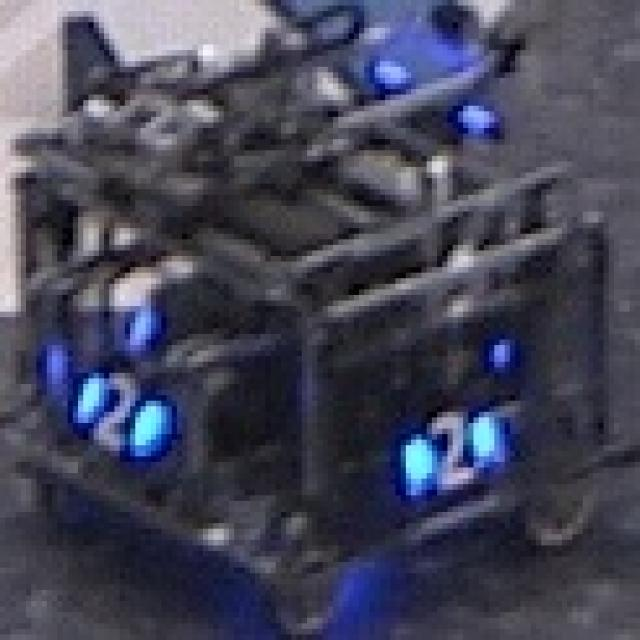B2: (395, 400, 505, 490), (67, 362, 172, 456)
